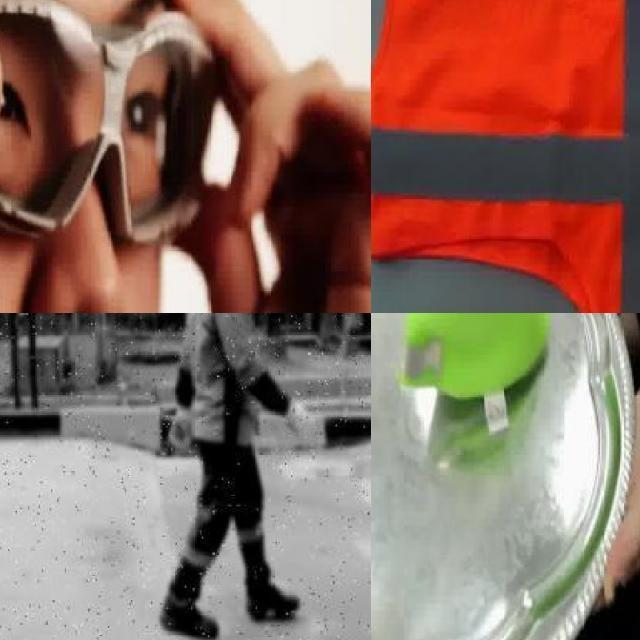apron: (281, 398, 321, 448), (162, 400, 196, 454)
